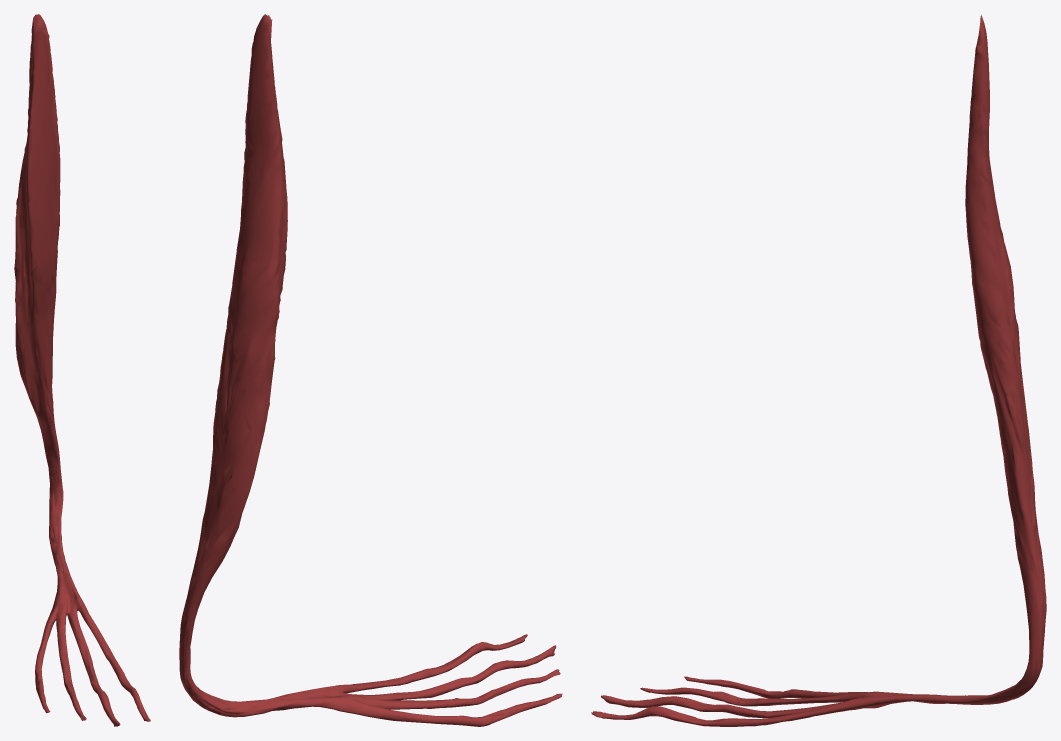
Rendered from flexor-digitorum-longus-r.glb.
3 renders of one model, left to right at view 1: azimuth 30°, elevation 25°; view 2: azimuth 150°, elevation 25°; view 3: azimuth 270°, elevation 25°, orthographic. The views are drawn at different scales.
Visible parts, largest first — view 1: Flexor digitorum longus.r; view 2: Flexor digitorum longus.r; view 3: Flexor digitorum longus.r.
Boxes of the visible parts, box(x1,y1,x2,y2) form: Flexor digitorum longus.r: box(14, 14, 150, 726); Flexor digitorum longus.r: box(179, 14, 562, 726); Flexor digitorum longus.r: box(591, 14, 1046, 726).
Bounding box in the file's own units: 0.0945 × 0.3436 × 0.1931.
